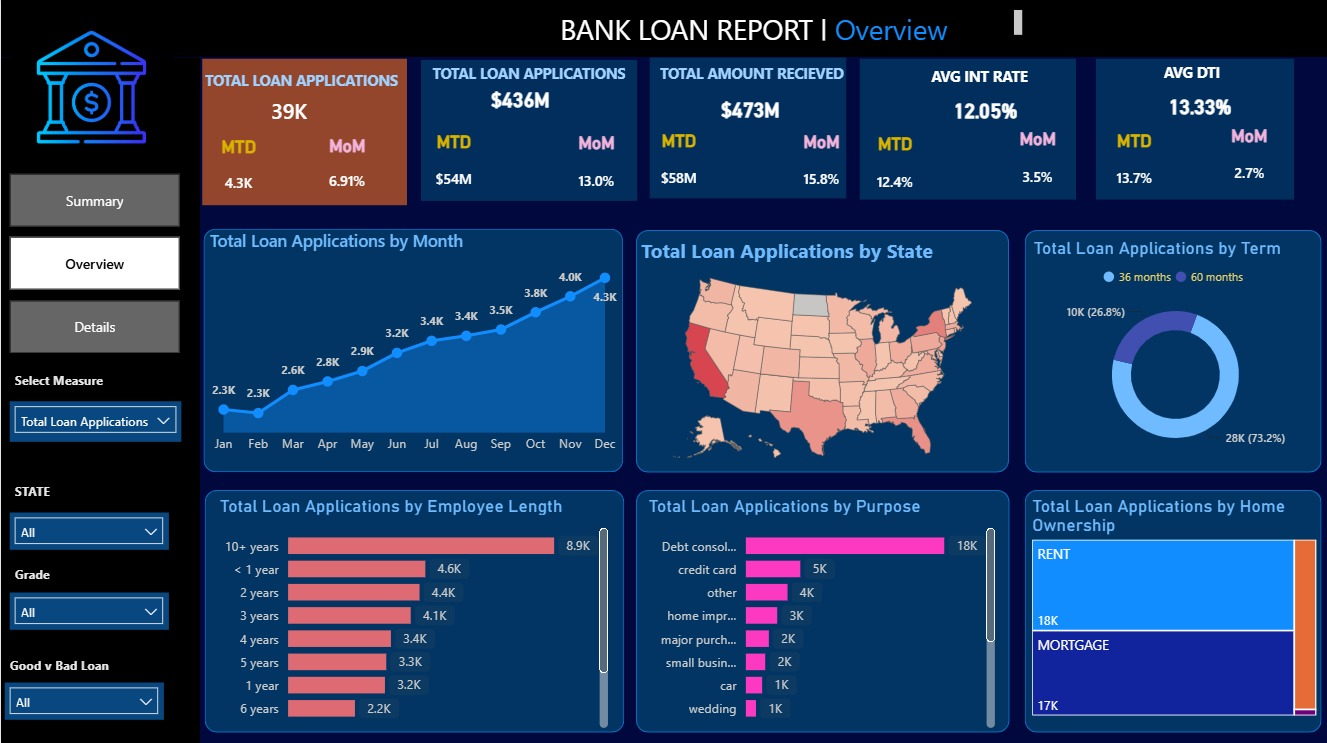

The dashboard page shown, as its layout file describes it:
{"tool":"powerbi","page":{"name":"Overview","canvas":[1280,720],"ordinal":1},"visuals":[{"type":"shape","box":[0,55.5,192,664.7],"z":0},{"type":"shape","box":[195,56.5,197.9,141.4],"z":0,"group":"g1"},{"type":"cardVisual","title":"MoM","fields":{"Data":["financial_loan.MoM Loan Application"]},"box":[274.3,129.9,120.8,67.2],"z":1000,"group":"g1"},{"type":"shape","box":[196,221.1,405,235],"z":1000},{"type":"shape","box":[0,0,1280.3,54.9],"z":2000},{"type":"textbox","box":[191.9,62.7,196.2,34.3],"z":2000,"group":"g1"},{"type":"textbox","box":[534,5.4,456,39],"z":3000},{"type":"cardVisual","title":"MTD","fields":{"Data":["financial_loan.MTD Total Amounts Recieved"]},"box":[581.6,124.8,145.5,70],"z":3000,"group":"g4"},{"type":"cardVisual","title":"MTD","fields":{"Data":["financial_loan.MTD Avg DTI"]},"box":[1035.6,125,117.2,70],"z":3000,"group":"g6"},{"type":"cardVisual","title":"MTD","fields":{"Data":["financial_loan.MTD Funded Amounts"]},"box":[364.8,126.5,145.5,70],"z":3000,"group":"g2"},{"type":"cardVisual","title":"MTD","fields":{"Data":["financial_loan.MTD Avg Int Rate"]},"box":[790.2,129,145.5,70],"z":3000,"group":"g5"},{"type":"cardVisual","title":"MTD","fields":{"Data":["financial_loan.MTD Loan Applications"]},"box":[153.5,131.3,152.3,67.2],"z":3000,"group":"g1"},{"type":"shape","box":[405.2,57.9,208.7,136],"z":4000},{"type":"cardVisual","fields":{"Data":["financial_loan.Total Loan Applications"]},"box":[205.3,80.5,146.8,50.8],"z":4000,"group":"g1"},{"type":"group","id":"g1","title":"Group 1","box":[153.5,56.5,241,141.4],"z":5000},{"type":"textbox","box":[1117.9,55.2,158,34.3],"z":5750,"group":"g6"},{"type":"textbox","box":[411.5,56.5,196.2,34.3],"z":5750,"group":"g2"},{"type":"textbox","box":[631.2,56.5,195.2,33.7],"z":5750,"group":"g4"},{"type":"textbox","box":[892.3,59.2,196.2,34.3],"z":5750,"group":"g5"},{"type":"textbox","box":[374.5,337.9,45.6,7.7],"z":5750,"group":"g3"},{"type":"cardVisual","fields":{"Data":["financial_loan.Total Funded Amount"]},"box":[444.4,63.4,196.2,63.1],"z":5812,"group":"g2"},{"type":"cardVisual","fields":{"Data":["financial_loan.Avg DTI"]},"box":[1098.6,71.1,175,63.3],"z":5812,"group":"g6"},{"type":"cardVisual","fields":{"Data":["financial_loan.Total Amount Recived"]},"box":[666.2,73.9,196.6,63.3],"z":5812,"group":"g4"},{"type":"cardVisual","fields":{"Data":["financial_loan.Avg Interest Rate"]},"box":[890.6,75.2,196.2,63.1],"z":5812,"group":"g5"},{"type":"group","id":"g2","title":"Group 2","box":[364.8,56.5,289.4,141.4],"z":6000},{"type":"cardVisual","title":"MoM","fields":{"Data":["financial_loan.MoM Avg DTI"]},"box":[1141.7,120.3,127.1,70],"z":6000,"group":"g6"},{"type":"cardVisual","title":"MoM","fields":{"Data":["financial_loan.MoM Avg Int Rate"]},"box":[922,124.3,157.8,70],"z":6000,"group":"g5"},{"type":"cardVisual","title":"MoM","fields":{"Data":["financial_loan.MoM Total Amounts Recieved"]},"box":[713.3,126.2,157.8,70],"z":6000,"group":"g4"},{"type":"cardVisual","title":"MoM","fields":{"Data":["financial_loan.MoM Total Funded Amounts"]},"box":[496.5,127.9,157.8,70],"z":6000,"group":"g2"},{"type":"shape","box":[626,55.2,189.8,136],"z":7000},{"type":"shape","box":[829.3,56.5,208.7,136],"z":8000},{"type":"group","id":"g3","title":"Group 2","box":[374.5,337.9,45.6,7.7],"z":9000},{"type":"shape","box":[1056.8,56.5,191.2,136],"z":10000},{"type":"group","id":"g4","title":"Group 2","box":[581.6,56.5,289.4,140],"z":11000},{"type":"group","id":"g5","title":"Group 2","box":[790.2,59.2,297.5,140],"z":12000},{"type":"group","id":"g6","title":"Group 2","box":[1035.6,55.2,240.3,139.8],"z":13000},{"type":"slicer","fields":{"Values":["financial_loan.address_state"]},"box":[8.1,495,153.3,36.3],"z":14000},{"type":"textbox","box":[8.1,460,72.6,35],"z":15000},{"type":"textbox","box":[8.1,539.4,67.3,32.3],"z":16000},{"type":"textbox","box":[4,626.8,153.3,32.3],"z":17000},{"type":"slicer","fields":{"Values":["financial_loan.Good vs Bad Loan"]},"box":[4,659.1,153.3,36.3],"z":18000},{"type":"slicer","fields":{"Values":["financial_loan.grade"]},"box":[8.1,571.7,153.3,36.3],"z":19000},{"type":"areaChart","fields":{"Y":["financial_loan.Total Loan Applications"],"Category":["Date Table.Month"]},"box":[196.4,220.6,404.9,226],"z":20000},{"type":"slicer","fields":{"Values":["Select Measure.Select Measure"]},"box":[8.1,387.4,165.4,39],"z":21000},{"type":"textbox","box":[8.1,352.4,125.1,35],"z":22000},{"type":"shape","box":[613.4,221.9,360,234],"z":23000},{"type":"shapeMap","fields":{"Value":["financial_loan.Total Loan Applications"],"Category":["financial_loan.address_state"]},"box":[613.4,228.7,360.5,227.3],"z":24000},{"type":"shape","box":[988.7,221.9,286.5,234],"z":25000},{"type":"donutChart","fields":{"Y":["financial_loan.Total Loan Applications"],"Category":["financial_loan.term"]},"box":[991.3,228.7,283.8,217.9],"z":26000},{"type":"shape","box":[196.4,473.5,404.9,234],"z":27000},{"type":"barChart","fields":{"Y":["financial_loan.Total Loan Applications"],"Category":["financial_loan.emp_length"]},"box":[205.8,477.5,384.7,230],"z":28000},{"type":"shape","box":[613.4,473.5,360.5,234],"z":29000},{"type":"barChart","fields":{"Y":["financial_loan.Total Loan Applications"],"Category":["financial_loan.purpose"]},"box":[620.1,477.5,344.3,230],"z":30000},{"type":"shape","box":[988.7,473.5,286.5,234],"z":31000},{"type":"treemap","fields":{"Values":["financial_loan.Total Loan Applications"],"Group":["financial_loan.home_ownership"]},"box":[990,477.5,283.8,217.9],"z":32000},{"type":"pageNavigator","box":[8.1,168.1,164.1,174.9],"z":33000},{"type":"image","box":[8.1,8.1,157.4,160.1],"z":34000}]}

Visuals, with their boxes in screenshot pixels (x1, y1, x2, y2), scaled from the page's 1280x720 canvas onto the 1327x743 screenshot:
shape: box(0, 57, 199, 742)
shape: box(202, 58, 407, 204)
"MoM" cardVisual: box(284, 134, 410, 203)
shape: box(203, 228, 623, 471)
shape: box(0, 0, 1326, 57)
textbox: box(199, 65, 402, 100)
textbox: box(554, 6, 1026, 46)
"MTD" cardVisual: box(603, 129, 754, 201)
"MTD" cardVisual: box(1074, 129, 1195, 201)
"MTD" cardVisual: box(378, 131, 529, 203)
"MTD" cardVisual: box(819, 133, 970, 205)
"MTD" cardVisual: box(159, 135, 317, 205)
shape: box(420, 60, 636, 200)
cardVisual - financial_loan.Total Loan Applications: box(213, 83, 365, 135)
"Group 1" group: box(159, 58, 409, 204)
textbox: box(1159, 57, 1323, 92)
textbox: box(427, 58, 630, 94)
textbox: box(654, 58, 857, 93)
textbox: box(925, 61, 1128, 96)
textbox: box(388, 349, 436, 357)
cardVisual - financial_loan.Total Funded Amount: box(461, 65, 664, 131)
cardVisual - financial_loan.Avg DTI: box(1139, 73, 1320, 139)
cardVisual - financial_loan.Total Amount Recived: box(691, 76, 894, 142)
cardVisual - financial_loan.Avg Interest Rate: box(923, 78, 1127, 143)
"Group 2" group: box(378, 58, 678, 204)
"MoM" cardVisual: box(1184, 124, 1315, 196)
"MoM" cardVisual: box(956, 128, 1119, 201)
"MoM" cardVisual: box(739, 130, 903, 202)
"MoM" cardVisual: box(515, 132, 678, 204)
shape: box(649, 57, 846, 197)
shape: box(860, 58, 1076, 199)
"Group 2" group: box(388, 349, 436, 357)
shape: box(1096, 58, 1294, 199)
"Group 2" group: box(603, 58, 903, 203)
"Group 2" group: box(819, 61, 1128, 206)
"Group 2" group: box(1074, 57, 1323, 201)
slicer - financial_loan.address_state: box(8, 511, 167, 548)
textbox: box(8, 475, 84, 511)
textbox: box(8, 557, 78, 590)
textbox: box(4, 647, 163, 680)
slicer - financial_loan.Good vs Bad Loan: box(4, 680, 163, 718)
slicer - financial_loan.grade: box(8, 590, 167, 627)
areaChart - financial_loan.Total Loan Applications x Date Table.Month: box(204, 228, 623, 461)
slicer - Select Measure.Select Measure: box(8, 400, 180, 440)
textbox: box(8, 364, 138, 400)
shape: box(636, 229, 1009, 470)
shapeMap - financial_loan.Total Loan Applications x financial_loan.address_state: box(636, 236, 1010, 471)
shape: box(1025, 229, 1322, 470)
donutChart - financial_loan.Total Loan Applications x financial_loan.term: box(1028, 236, 1322, 461)
shape: box(204, 489, 623, 730)
barChart - financial_loan.Total Loan Applications x financial_loan.emp_length: box(213, 493, 612, 730)
shape: box(636, 489, 1010, 730)
barChart - financial_loan.Total Loan Applications x financial_loan.purpose: box(643, 493, 1000, 730)
shape: box(1025, 489, 1322, 730)
treemap - financial_loan.Total Loan Applications x financial_loan.home_ownership: box(1026, 493, 1321, 718)
pageNavigator: box(8, 173, 179, 354)
image: box(8, 8, 172, 174)
